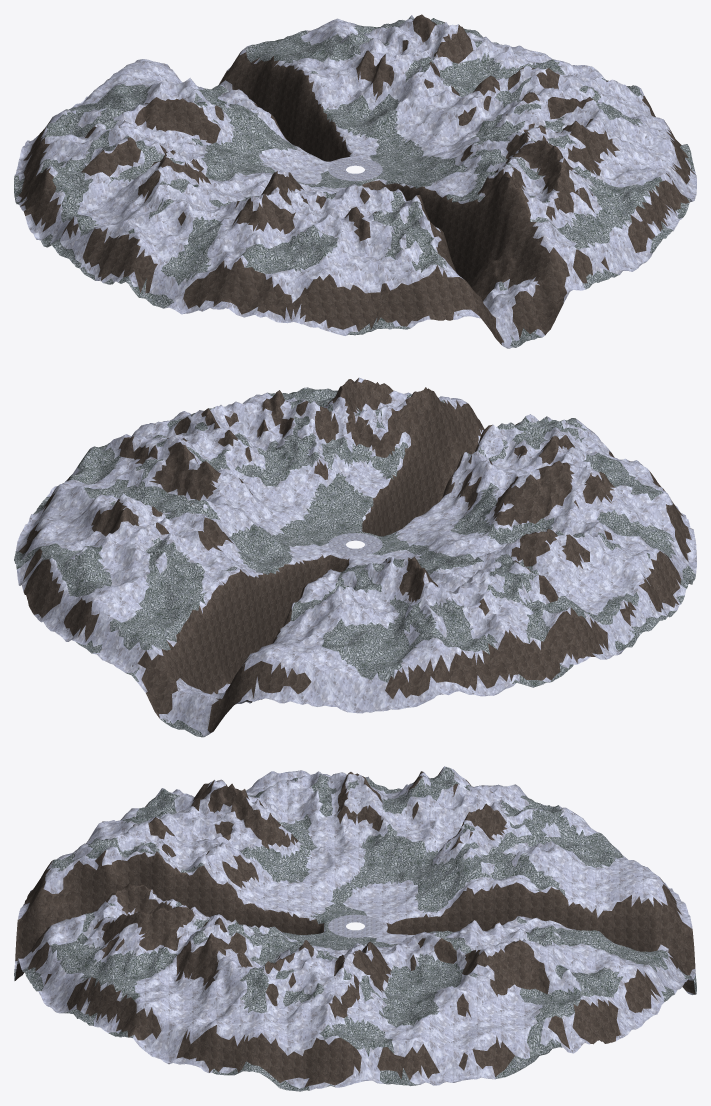
File: backdrop_near_c23_winter.glb
3 views of the same model, one above another, from view 1: azimuth 30°, elevation 25°; view 2: azimuth 150°, elevation 25°; view 3: azimuth 270°, elevation 25° (orthographic).
Parts seen in each view (by area): view 1: near_land_S, near_land_W, near_land_E, near_land_N; view 2: near_land_N, near_land_W, near_land_E, near_land_S; view 3: near_land_E, near_land_S, near_land_N, near_land_W.
Boxes of the visible parts, <box> form: near_land_S: <box>266,125,685,348</box>; near_land_W: <box>14,97,351,317</box>; near_land_E: <box>360,14,696,215</box>; near_land_N: <box>25,15,438,166</box>; near_land_N: <box>26,513,447,737</box>; near_land_W: <box>362,460,696,696</box>; near_land_E: <box>14,390,352,594</box>; near_land_S: <box>272,377,680,544</box>; near_land_E: <box>115,917,597,1091</box>; near_land_S: <box>14,806,338,1036</box>; near_land_N: <box>375,810,696,1043</box>; near_land_W: <box>132,766,570,918</box>.
Size of the model in its own units: 576 by 168 by 576.
Materials: 3 (3 with a texture image).
